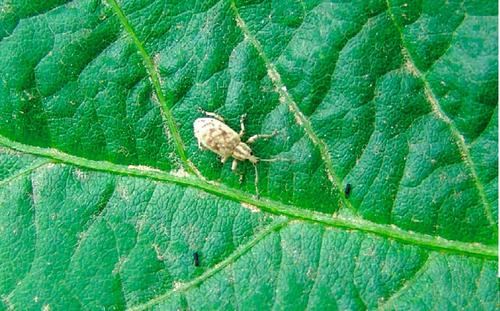Curculionidae: (191, 106, 282, 201)
